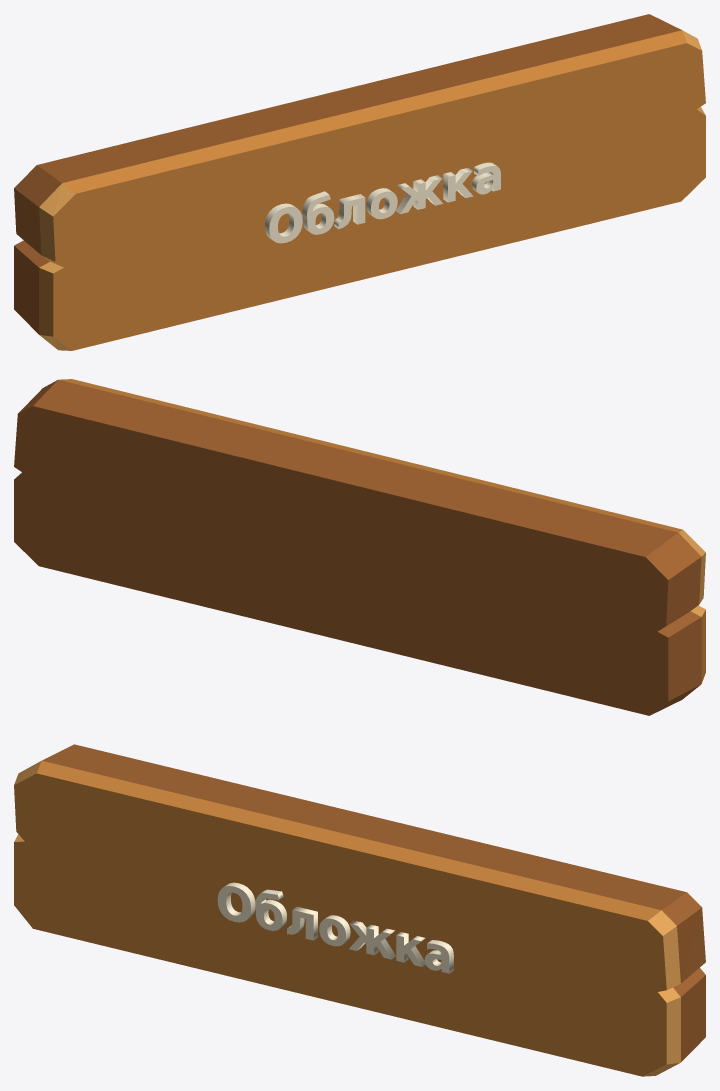
File: ChooseCover.fbx
3 renders of one model, top to bottom at view 1: azimuth 30°, elevation 25°; view 2: azimuth 150°, elevation 25°; view 3: azimuth 330°, elevation 25°, orthographic.
Parts seen in each view (by area): view 1: Stone.011, Label.003; view 2: Stone.011; view 3: Stone.011, Label.003.
Boxes of the visible parts, left/top/right/bottom form: Stone.011: left=14, top=14, right=705, bottom=350; Label.003: left=264, top=162, right=500, bottom=243; Stone.011: left=14, top=379, right=705, bottom=715; Stone.011: left=14, top=744, right=705, bottom=1076; Label.003: left=217, top=882, right=453, bottom=973.
Bounding box in the file's own units: 0.289 × 0.07 × 0.0337.
